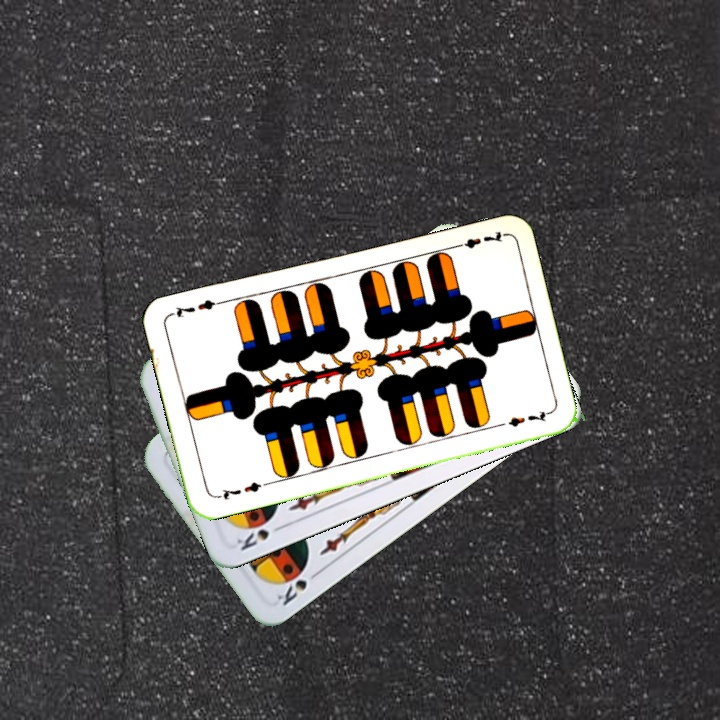E7: (211, 478, 270, 503), (448, 227, 507, 252)
SK: (272, 562, 324, 609), (232, 520, 288, 554)
